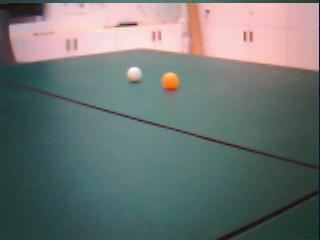oball: (162, 72, 179, 90)
